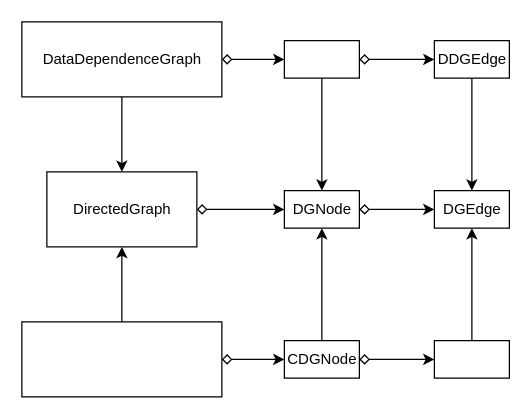
This 531x419 diagram has some shape labels left out. The shapes that lost their labels are listed below. From the top down, each one's centre as x and y in pixels, then its label:
At point 321,58: "DDGNode".
At point 121,359: "ControlDependenceGraph".
At point 471,358: "CDGEdge".
